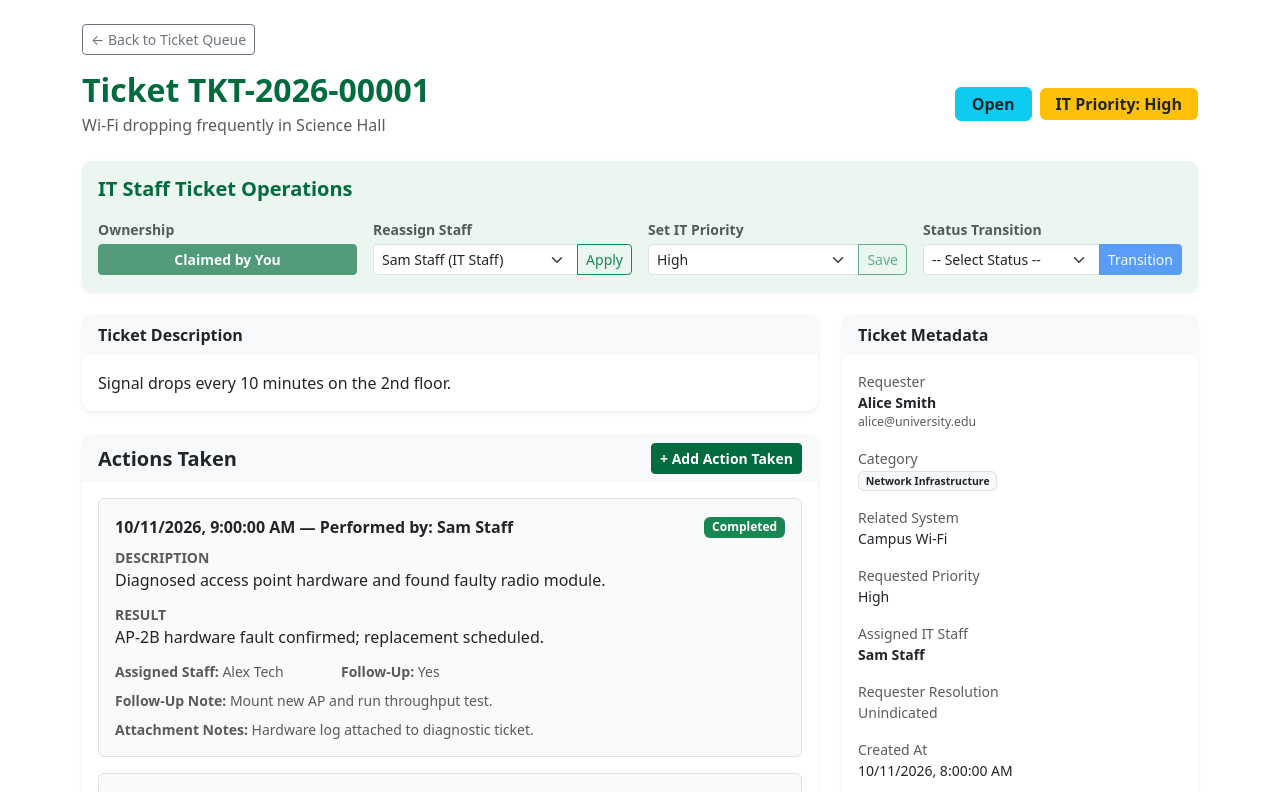
Test case: StaffTicketDetail — Lab 4 Actions Taken UI & Resolution Workflow (Issue #46) › 2. Add Action Taken Form & Validation › AT-UI-06: Validates required fields: rejects submission when Description or Result is blank
Click the button "+ Add Action Taken" at (726, 459), box [651,443,802,474]
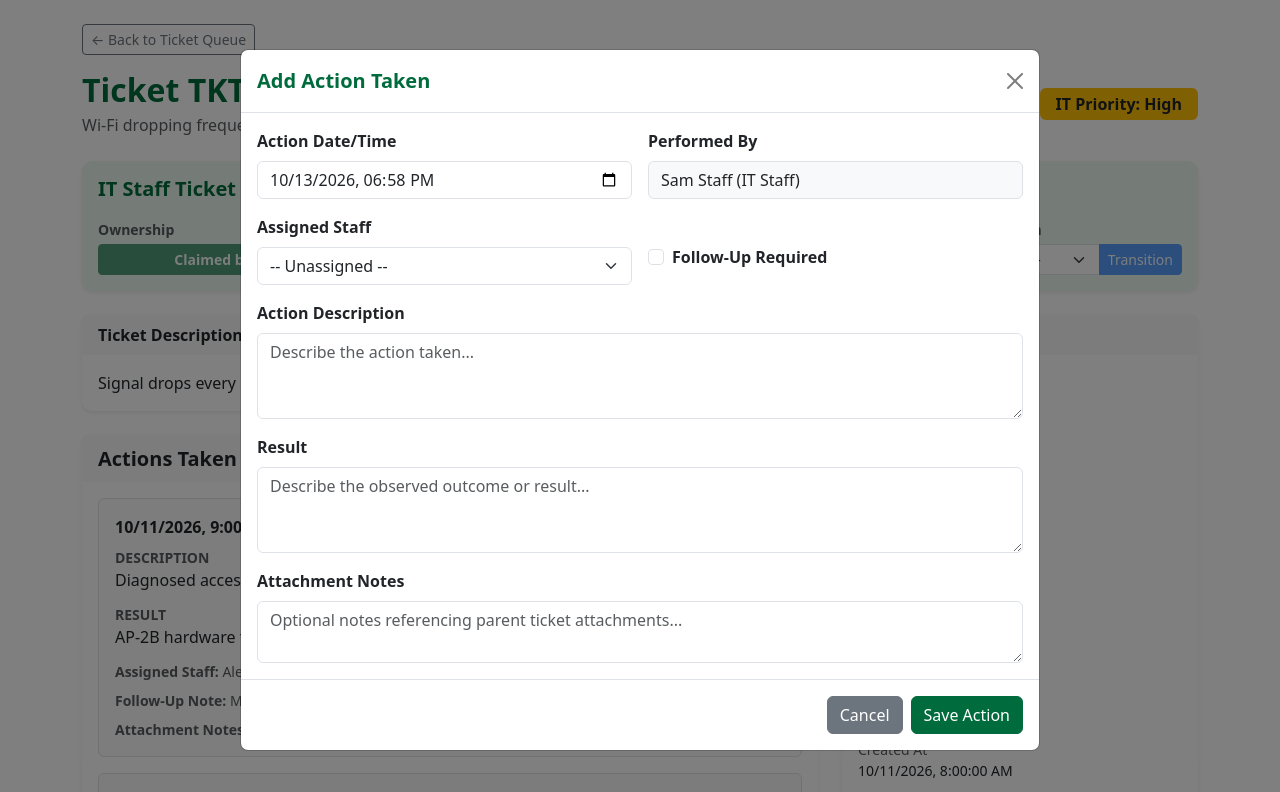
Click the button "Save Action" at (967, 715), box [910,696,1023,734]
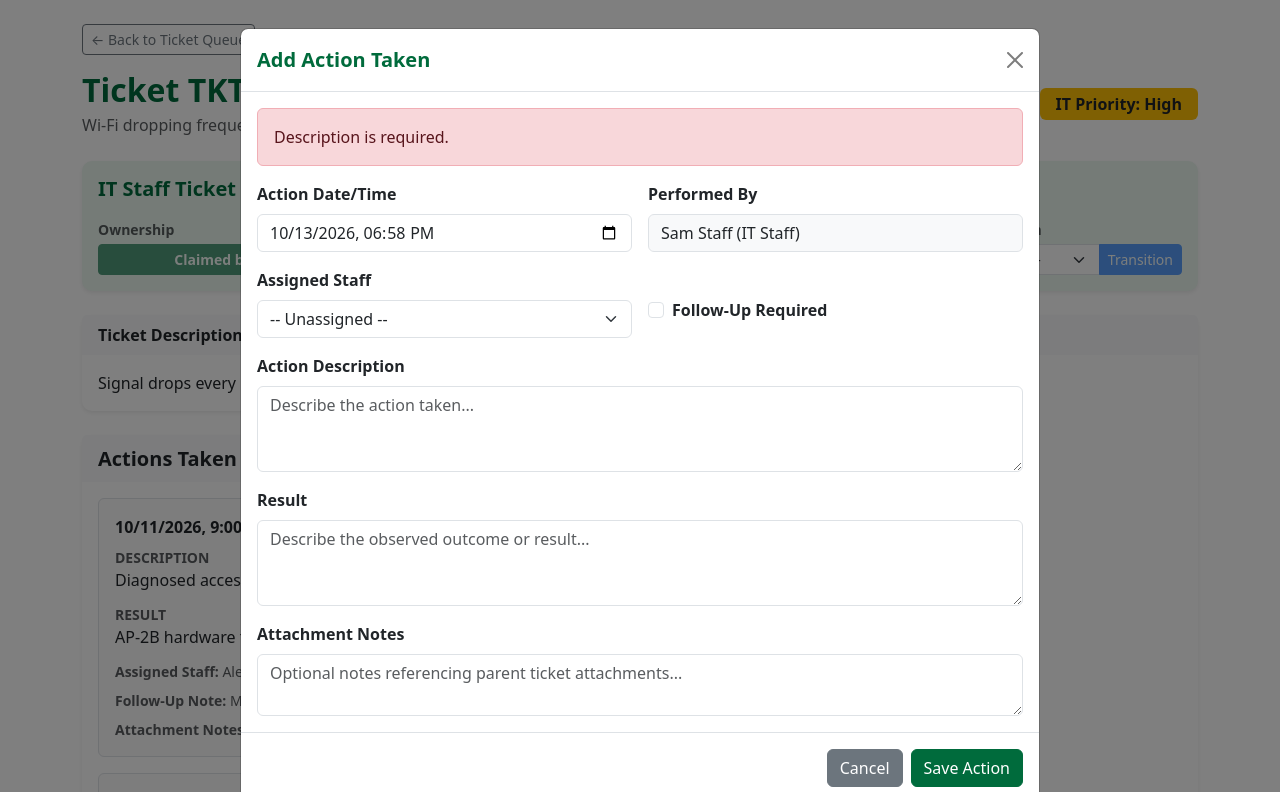
Expected: the text "Description is required." is shown, [257,108,1023,166]
